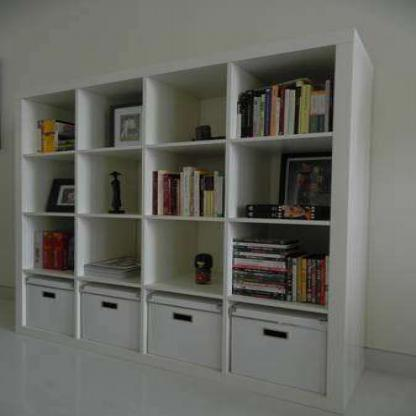lamp: (11, 28, 378, 415)
